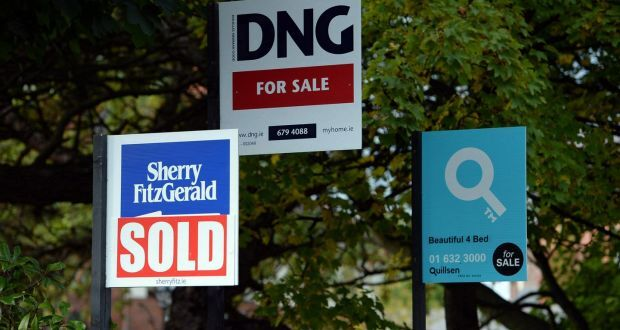property sign: (92, 124, 244, 297), (404, 116, 548, 293), (207, 1, 373, 153)
